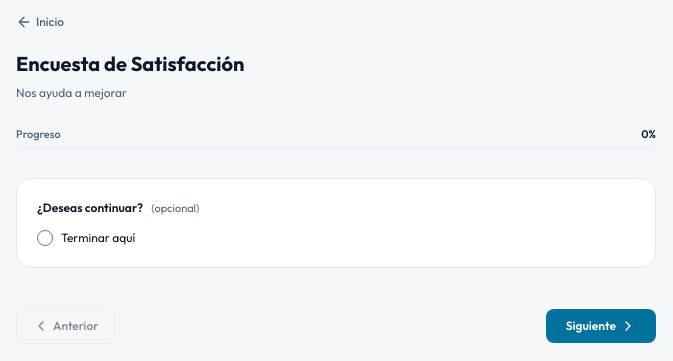
Test case: SurveyPublicRenderer — flujo y envío › omite secciones saltadas por una opción, incluso si contienen preguntas obligatorias
The image size is (673, 361).
expect the heading "Encuesta de Satisfacción" is shown: met, box [16, 50, 244, 76]
Click the radio button labelled "Terminar aquí" at (45, 238), box [37, 230, 53, 246]
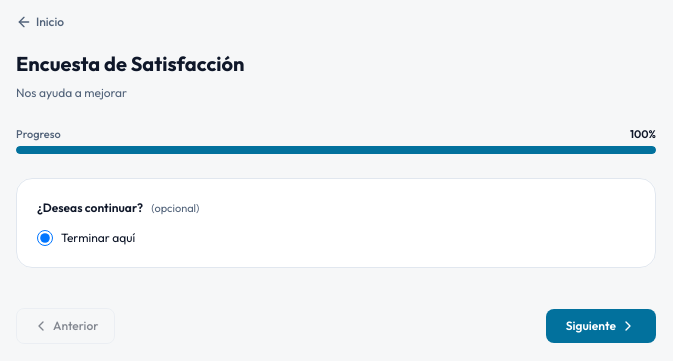
Click the button "Siguiente" at (601, 326), box [546, 309, 656, 343]
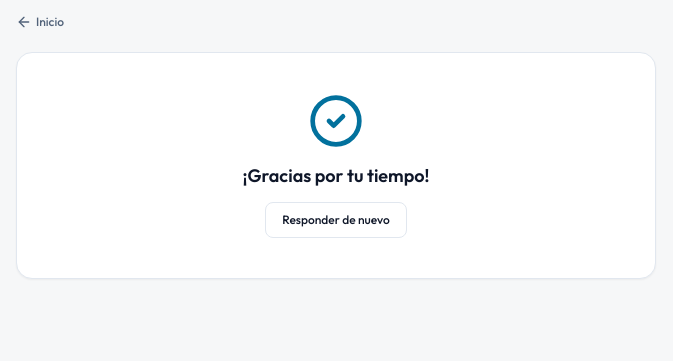
expect the heading "¡Gracias por tu tiempo!" is shown: met, box [242, 164, 430, 186]
